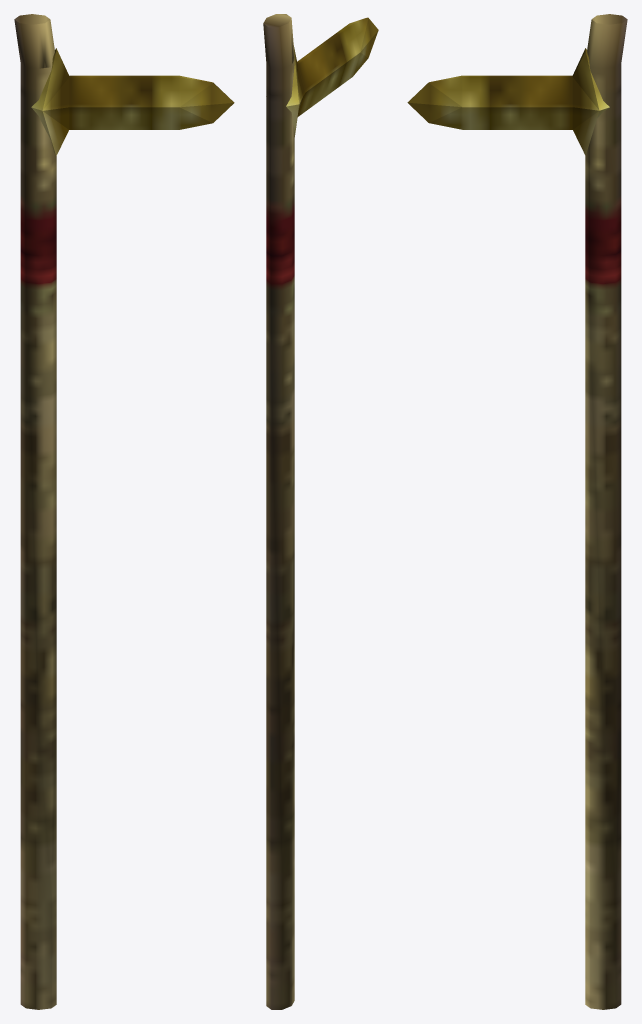
The model's file is 2_axe.dae.
The picture shows the model from 3 angles, left to right: view 1: azimuth 90°, elevation 25°; view 2: azimuth 150°, elevation 25°; view 3: azimuth 270°, elevation 25°; orthographic projection.
Parts seen in each view (by area): view 1: 2_axe; view 2: 2_axe; view 3: 2_axe.
Boxes of the visible parts, box(x1,y1,x2,y2) form: 2_axe: box(14, 14, 234, 1009); 2_axe: box(263, 14, 378, 1009); 2_axe: box(407, 14, 627, 1009).
Size of the model in its own units: 0.1331 by 0.7659 by 3.78.
